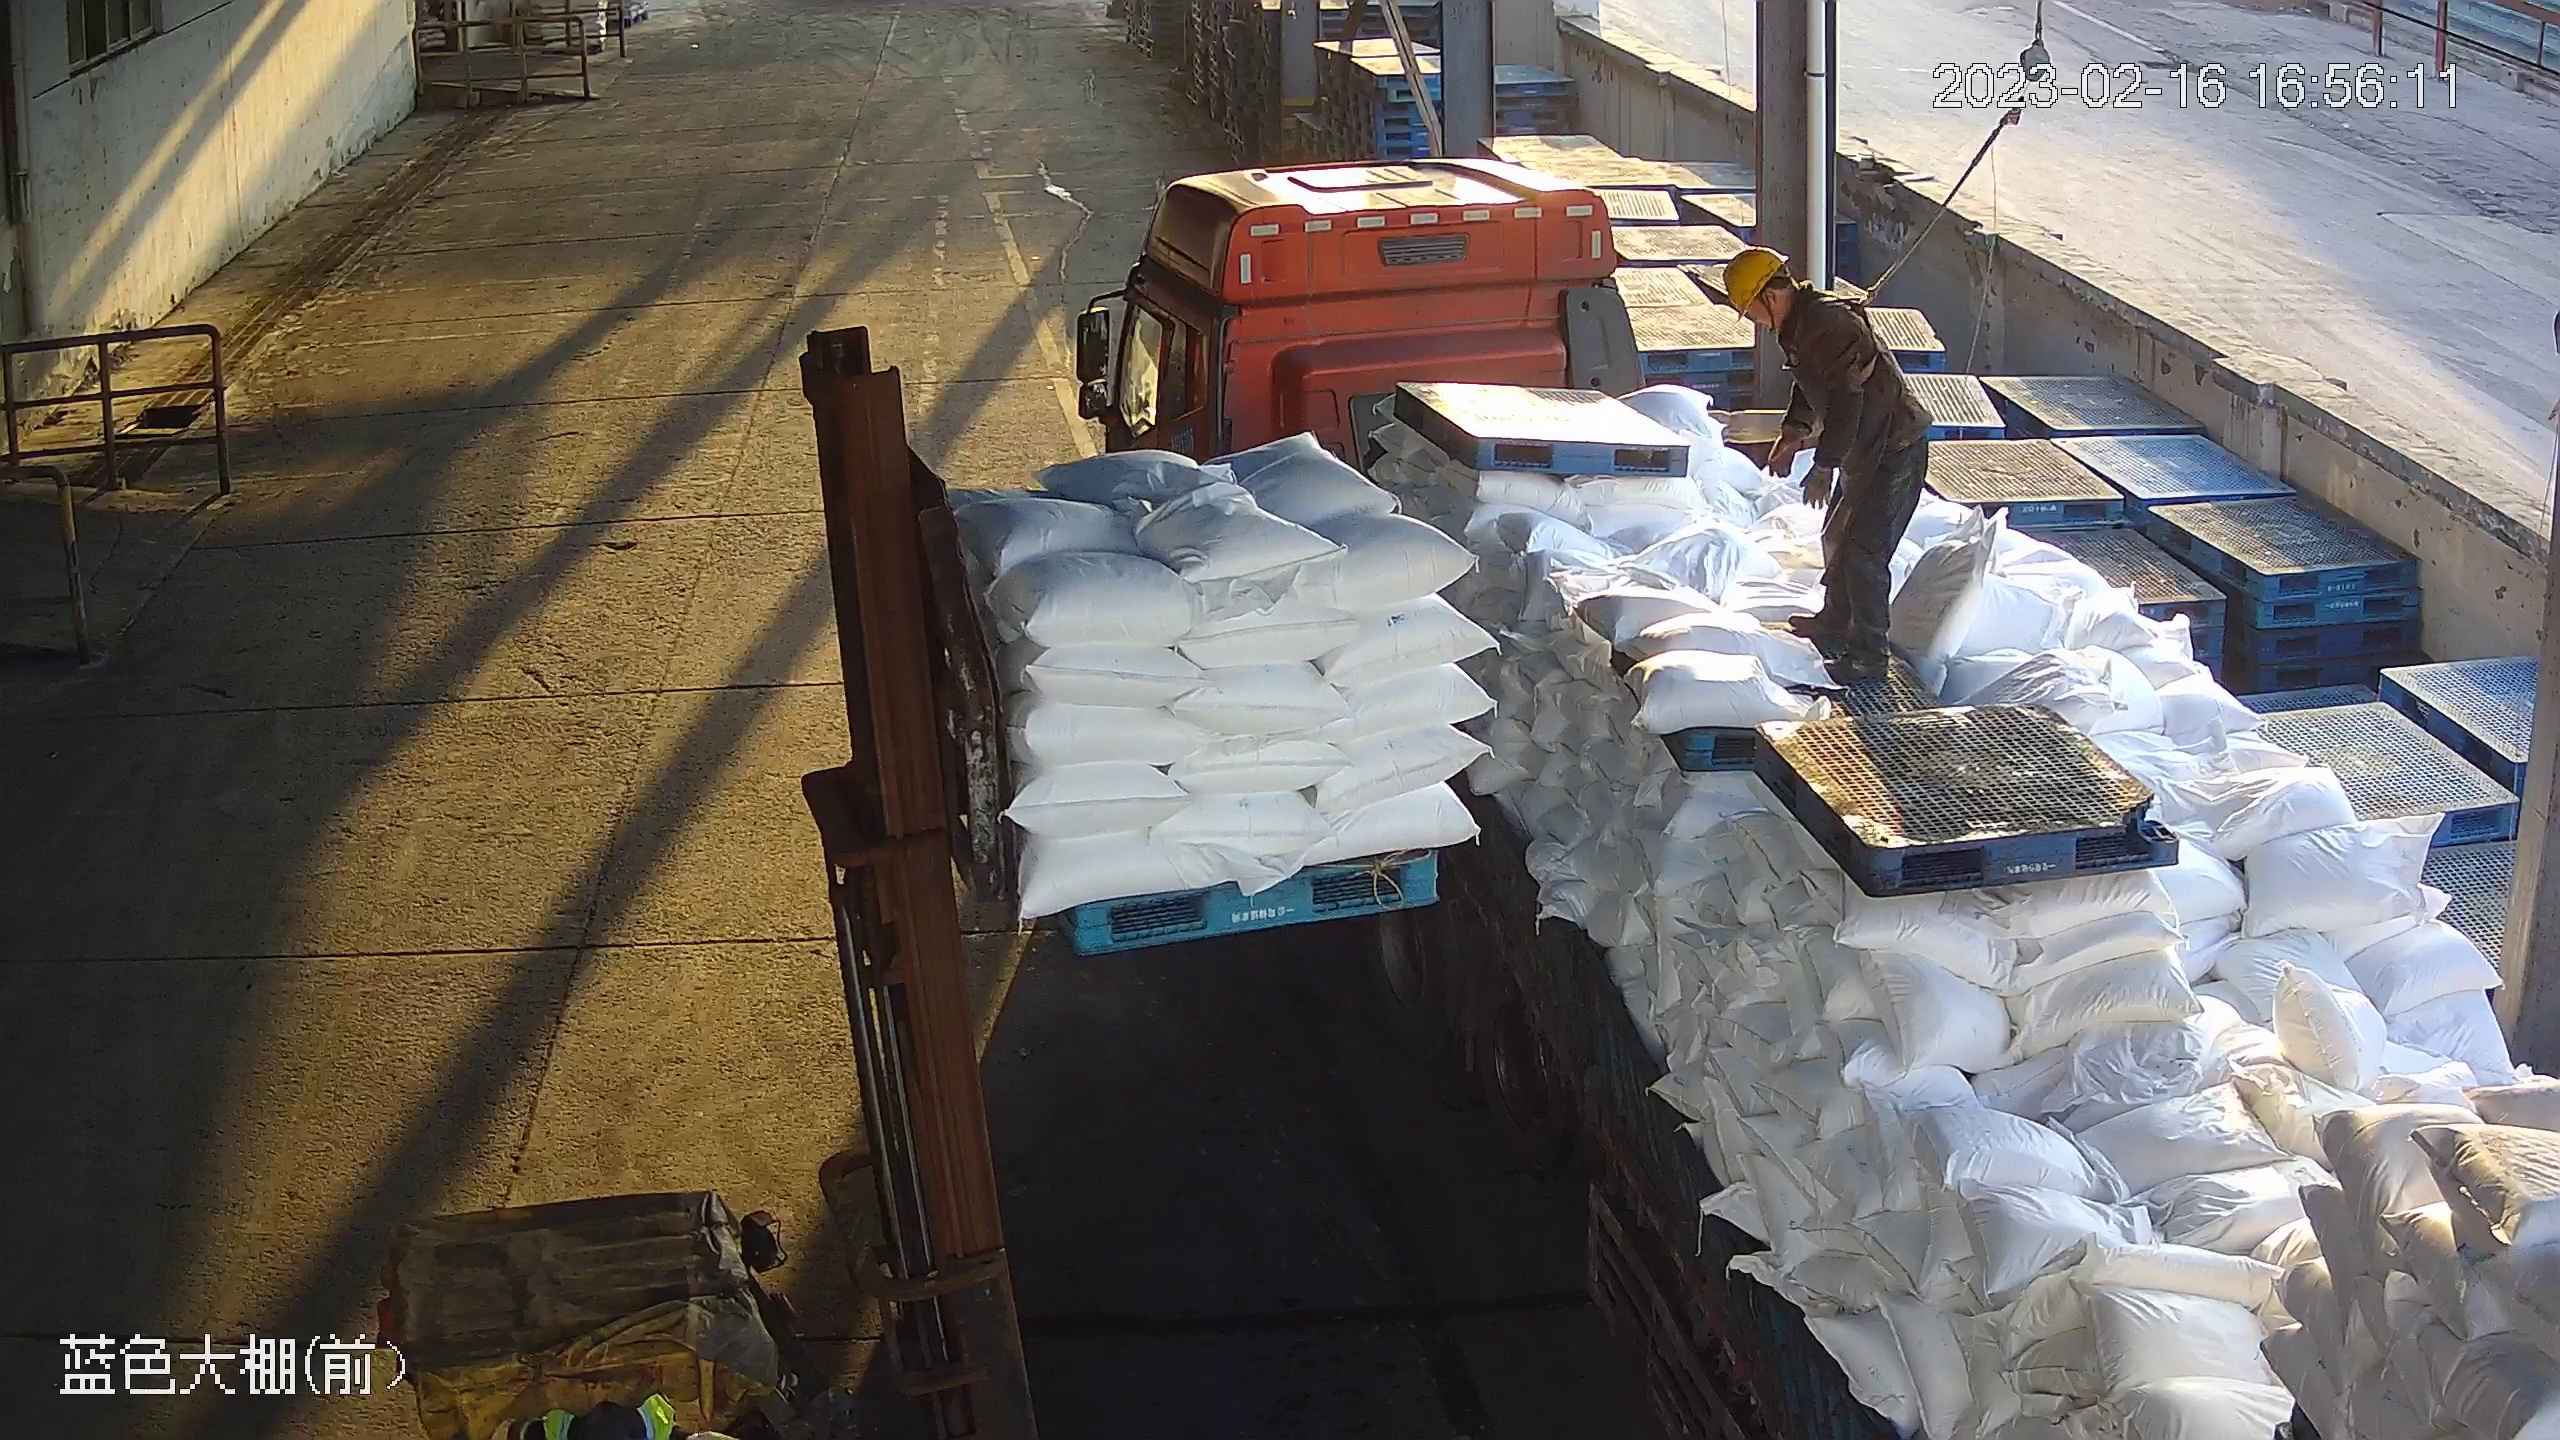belt: (1796, 283, 1887, 388)
head: (1725, 256, 1879, 369)
helmet: (1720, 243, 1794, 319)
people: (1707, 251, 1953, 723)
truck: (1086, 136, 2560, 1440)
